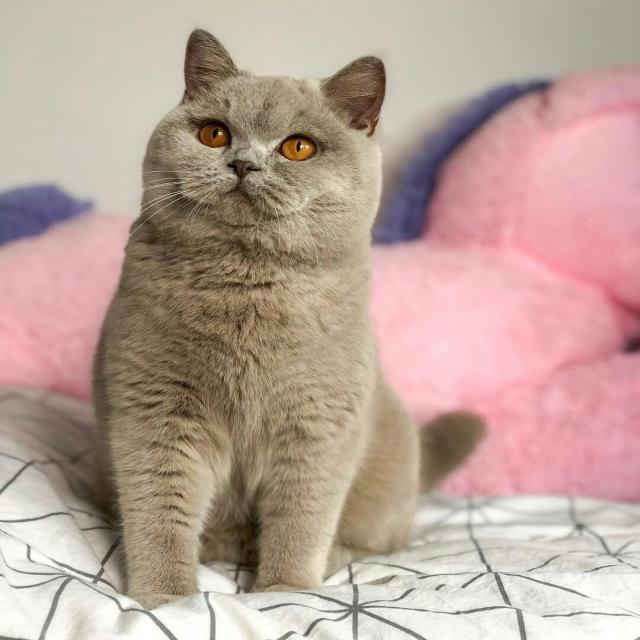british shorthair: (0, 39, 608, 640)
